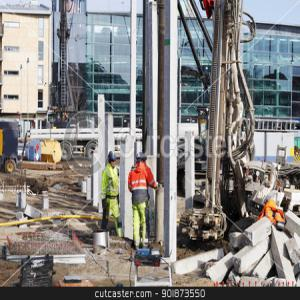blue: (108, 151, 118, 167), (136, 152, 146, 165)
